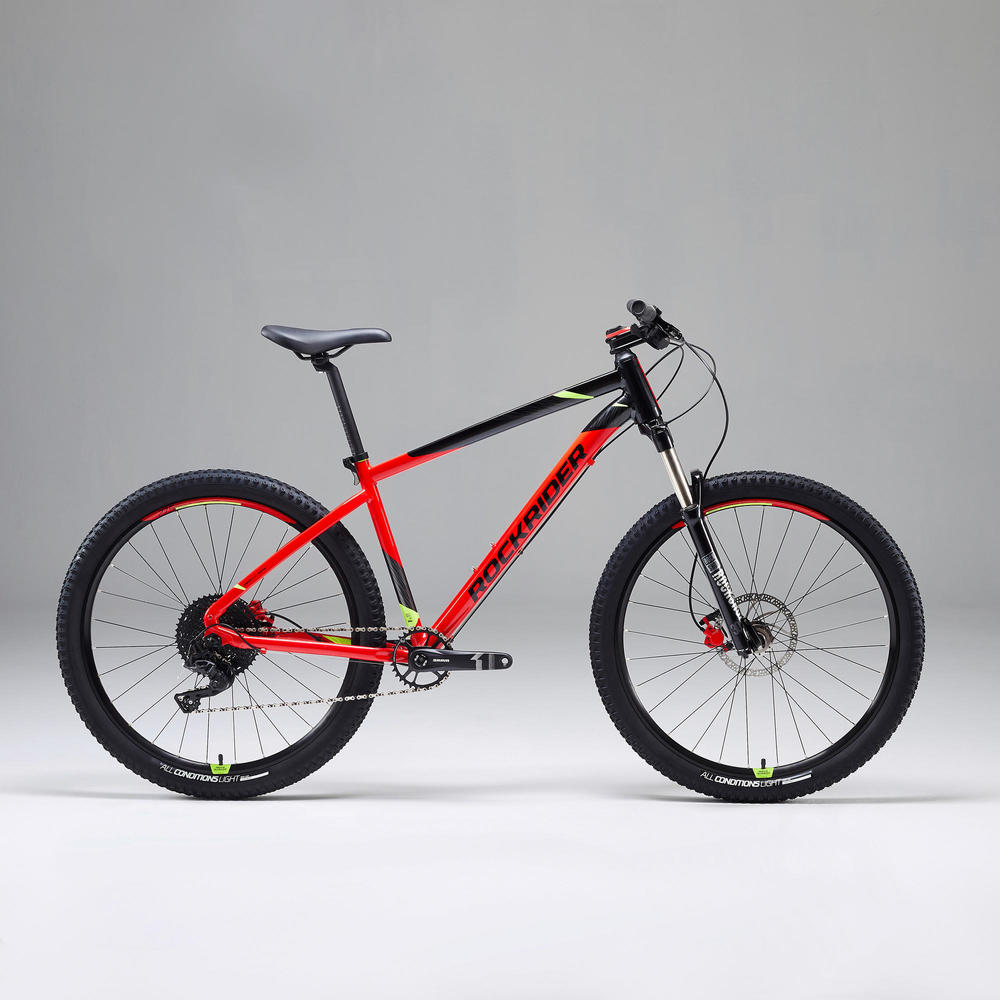MountainBike: (44, 301, 937, 802)
